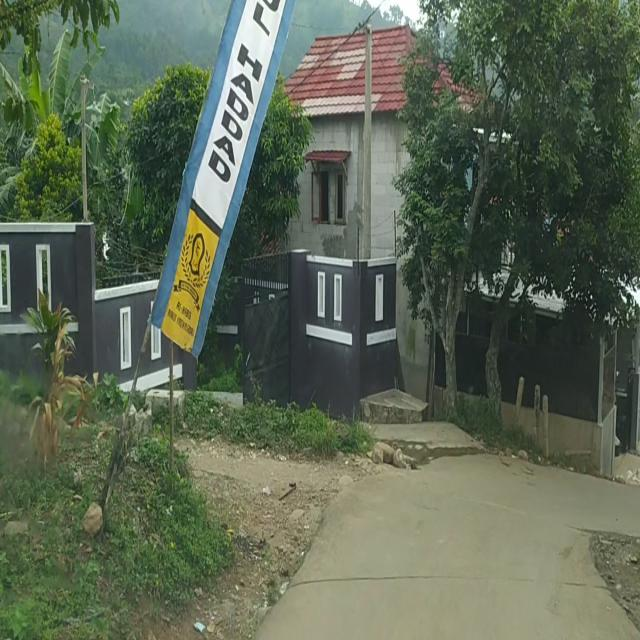Sewer Cover: (294, 573, 613, 593)
